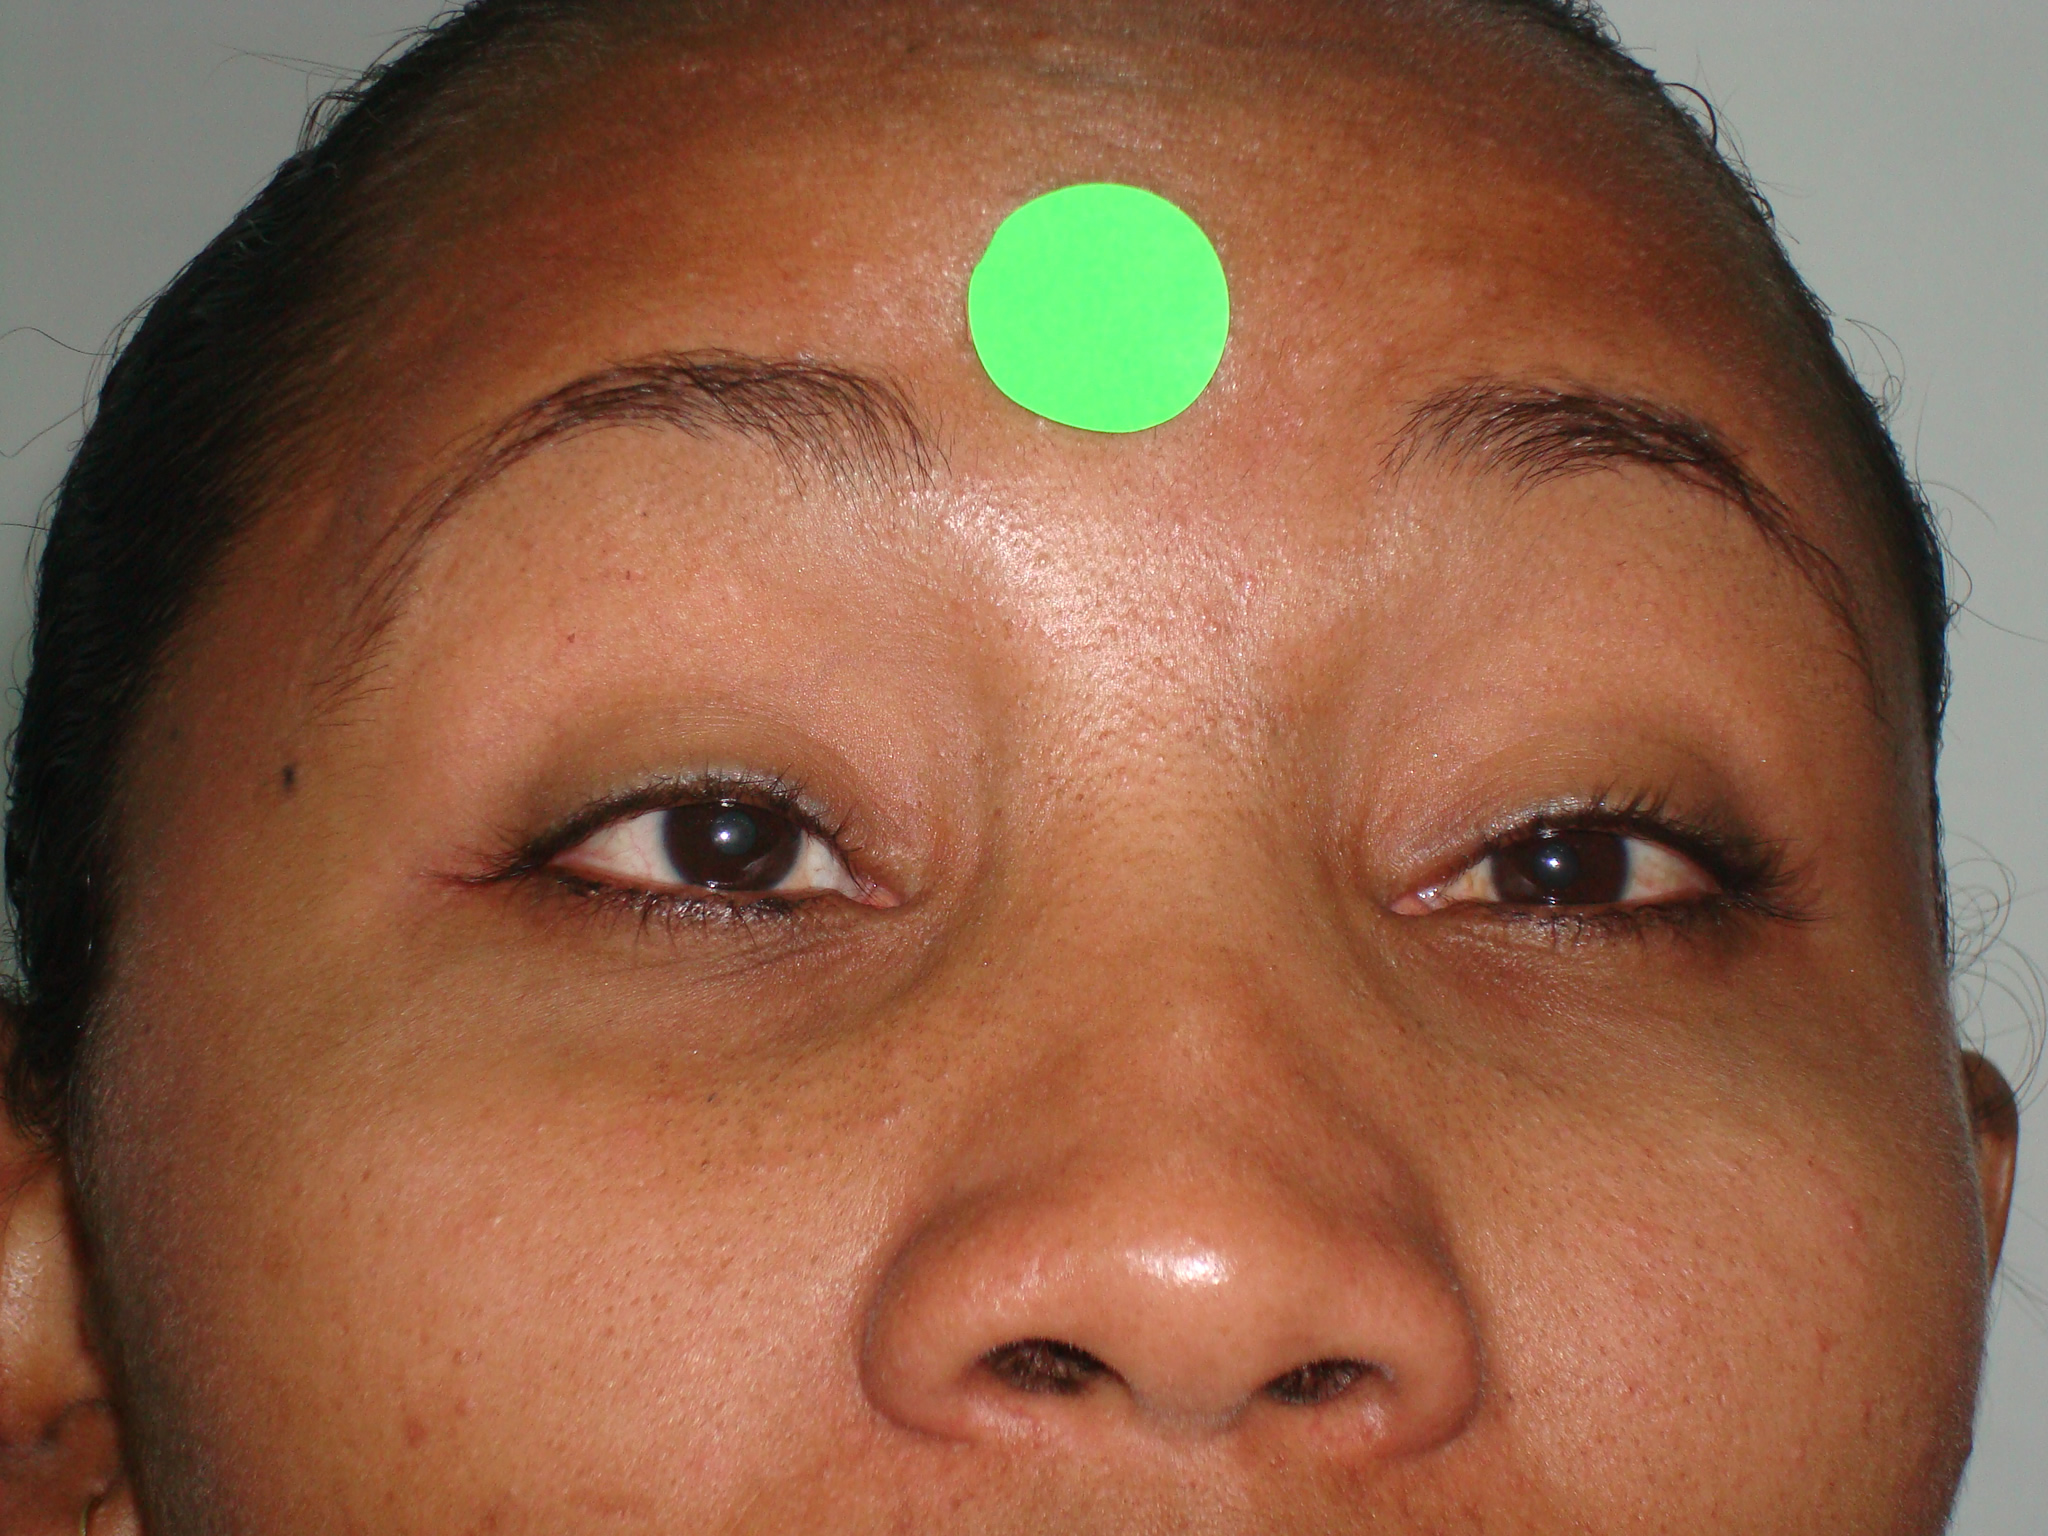flash: (1543, 852, 1564, 874), (716, 828, 732, 844)
limbo: (666, 778, 803, 884), (1488, 813, 1619, 916)
